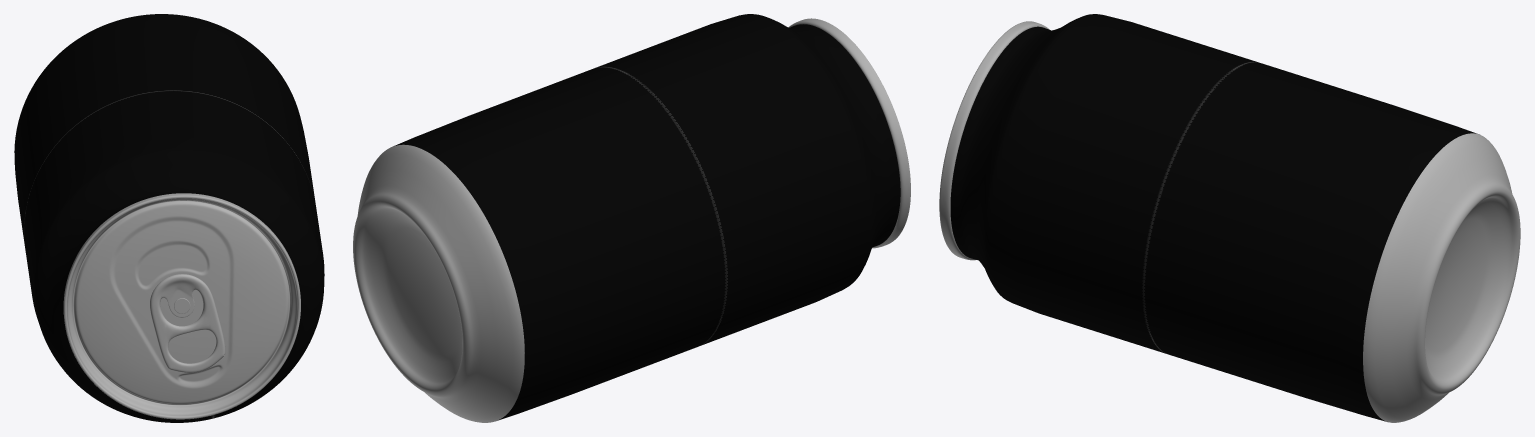
Rendered from hydration_can.gltf.
The picture shows the model from 3 angles, left to right: view 1: azimuth 30°, elevation 25°; view 2: azimuth 150°, elevation 25°; view 3: azimuth 270°, elevation 25°; orthographic projection. The views are drawn at different scales.
Parts seen in each view (by area): view 1: Can-LABEL_moonjuice, Top, Pull_Tab; view 2: Can-LABEL_moonjuice, Can-Metal_Screw_Silver, Top; view 3: Can-LABEL_moonjuice, Can-Metal_Screw_Silver, Top.
Part boxes in pixels (box(x1,y1,x2,y2)): Can-LABEL_moonjuice: box(14, 14, 324, 422); Top: box(63, 193, 300, 419); Pull_Tab: box(150, 274, 225, 372); Can-LABEL_moonjuice: box(393, 14, 900, 420); Can-Metal_Screw_Silver: box(353, 144, 524, 422); Top: box(788, 18, 910, 248); Can-LABEL_moonjuice: box(950, 14, 1479, 421); Can-Metal_Screw_Silver: box(1363, 133, 1520, 422); Top: box(939, 21, 1049, 260).
Size of the model in its own units: 23.92 by 17.46 by 29.68.
Materials: 2 (1 with a texture image).
